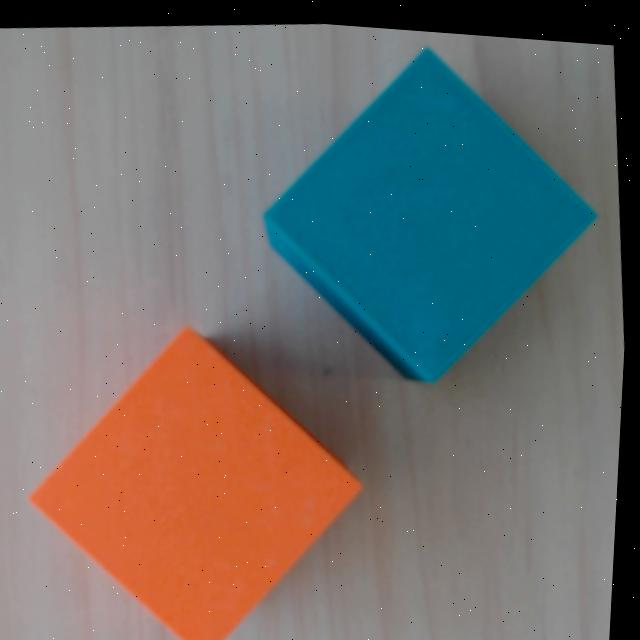Kubus-Hijau-505050: (251, 46, 599, 394)
Kubus-Jingga-505050: (27, 321, 366, 640)
